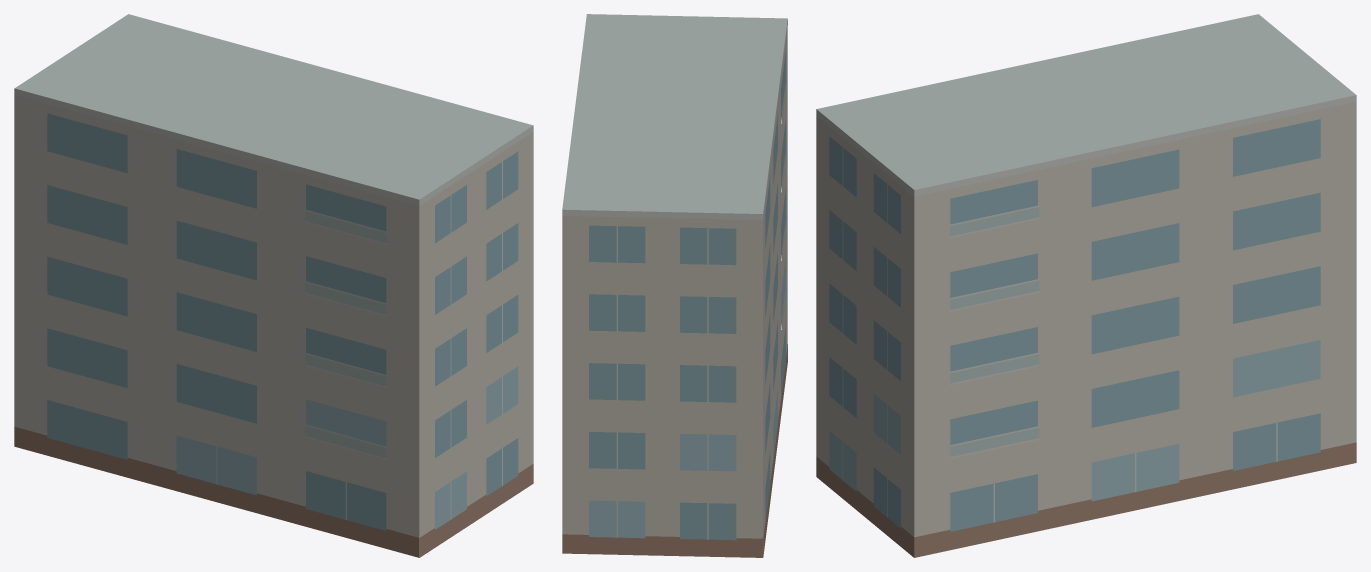
File: survey-upis-32840611.glb
3 views of the same model, side by side, from view 1: azimuth 30°, elevation 25°; view 2: azimuth 150°, elevation 25°; view 3: azimuth 270°, elevation 25° (orthographic). The views are drawn at different scales.
Parts seen in each view (by area): view 1: survey-upis-32840611.tmp; view 2: survey-upis-32840611.tmp; view 3: survey-upis-32840611.tmp.
Boxes of the visible parts, x1,y1,x2,y2 form: survey-upis-32840611.tmp: (14, 14, 533, 557); survey-upis-32840611.tmp: (562, 14, 787, 557); survey-upis-32840611.tmp: (816, 14, 1356, 557).
Bounding box in the file's own units: 14.23 × 13.85 × 18.44.
